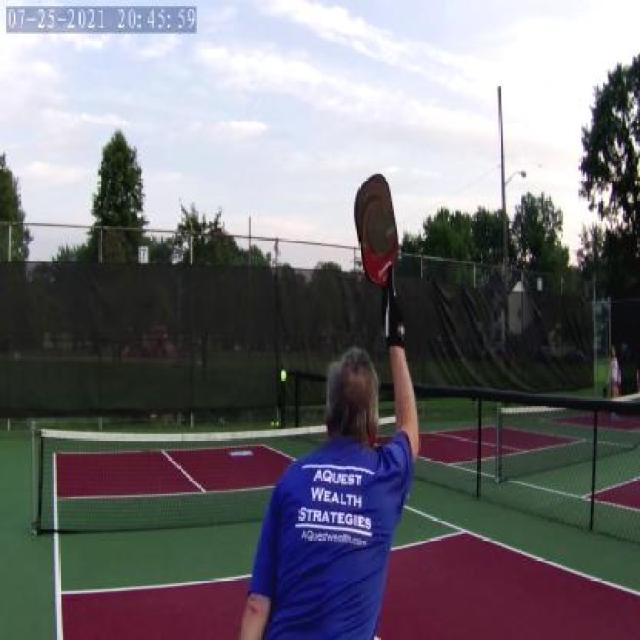ball: (277, 368, 290, 383)
